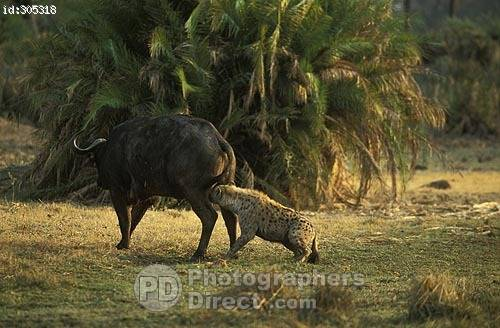bison: (66, 115, 241, 263)
hyena: (209, 179, 320, 268)
